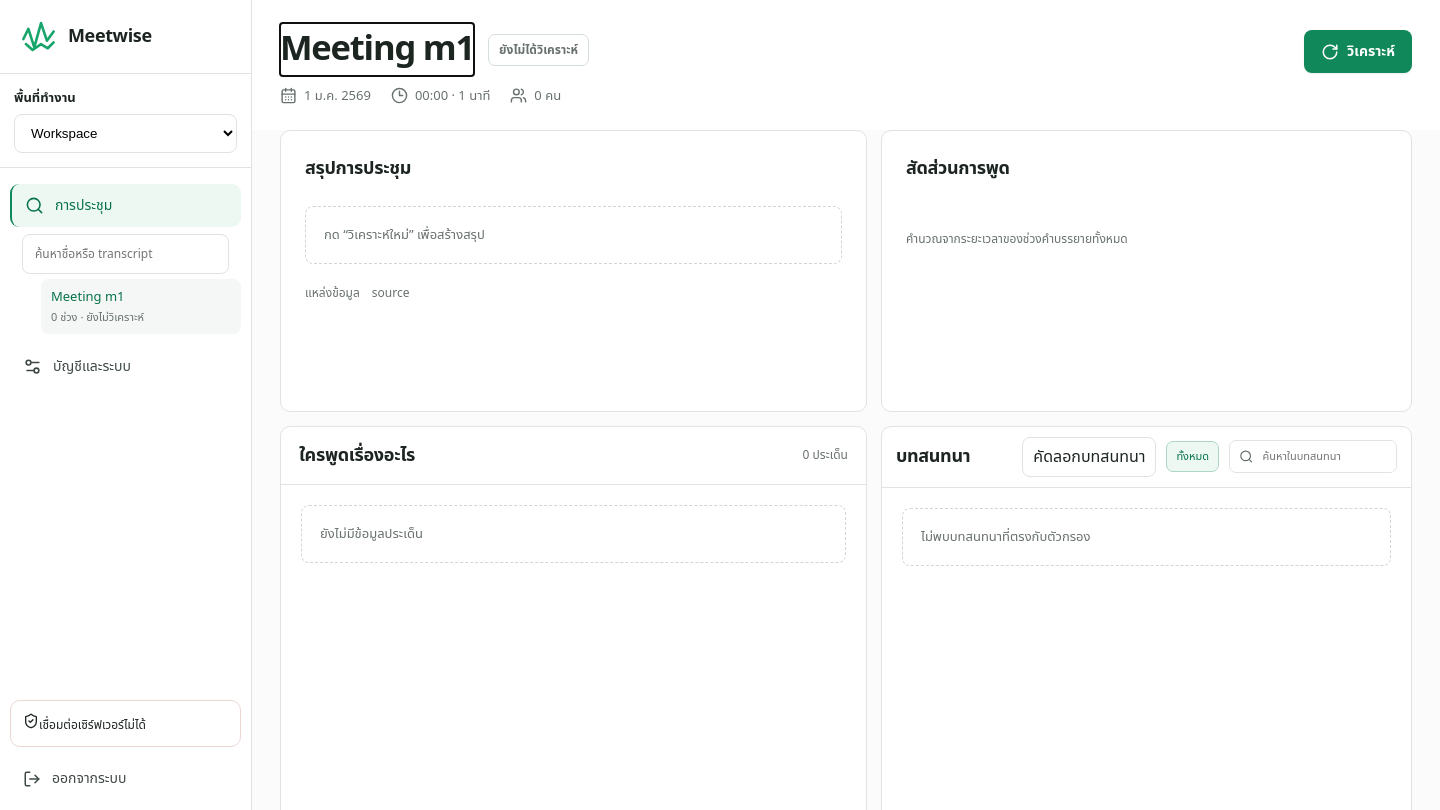
Test: dashboard authentication and role-aware UI › ignores stale search responses and restores meetings after clearing search
Check: the heading "Meeting m1" is shown, box [280,30,474,70]
Type "old" into the field with placeholder "ค้นหาชื่อหรือ transcript" at (126, 254), box [22,234,229,274]
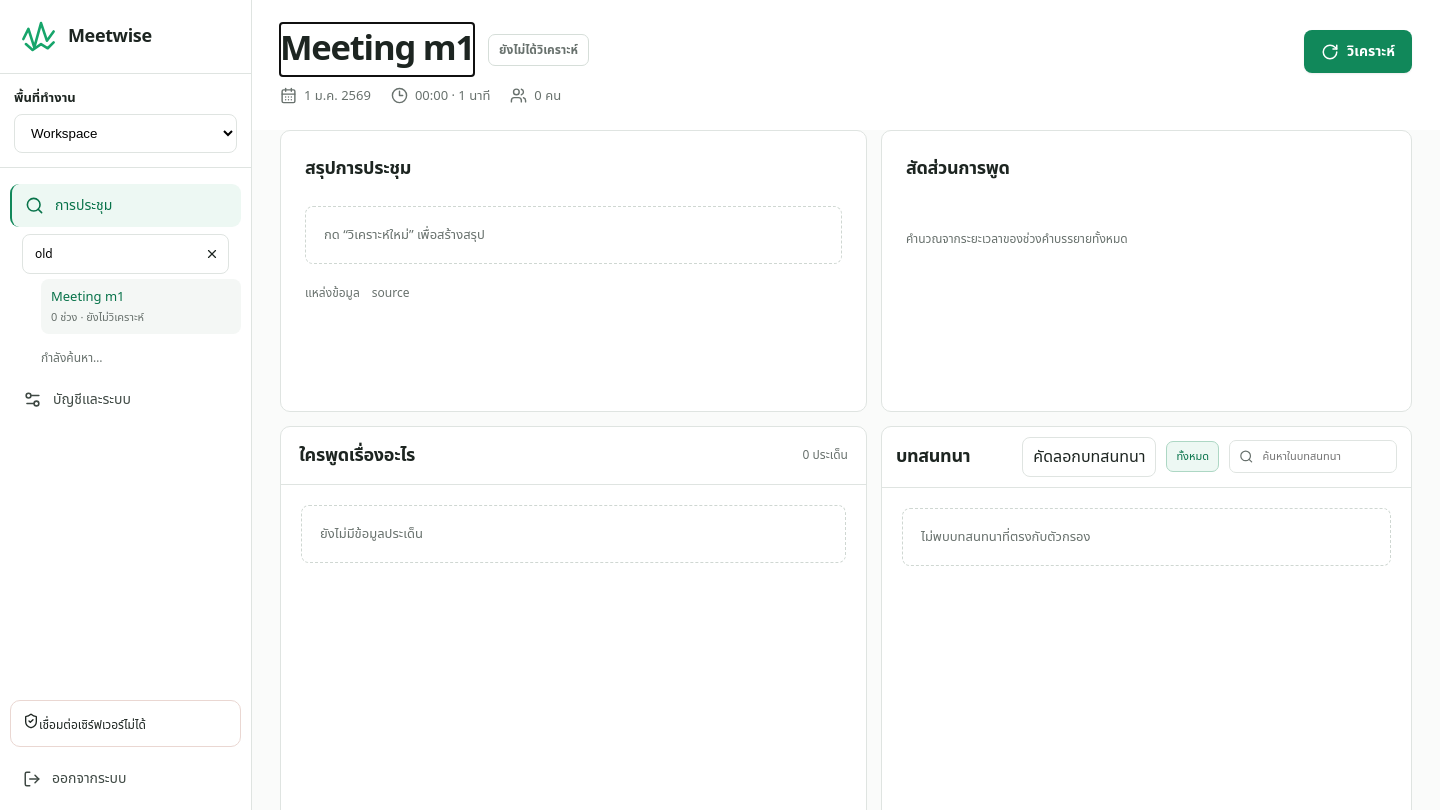
Replace the text in the field with placeholder "ค้นหาชื่อหรือ transcript" with "new" at (126, 254), box [22,234,229,274]
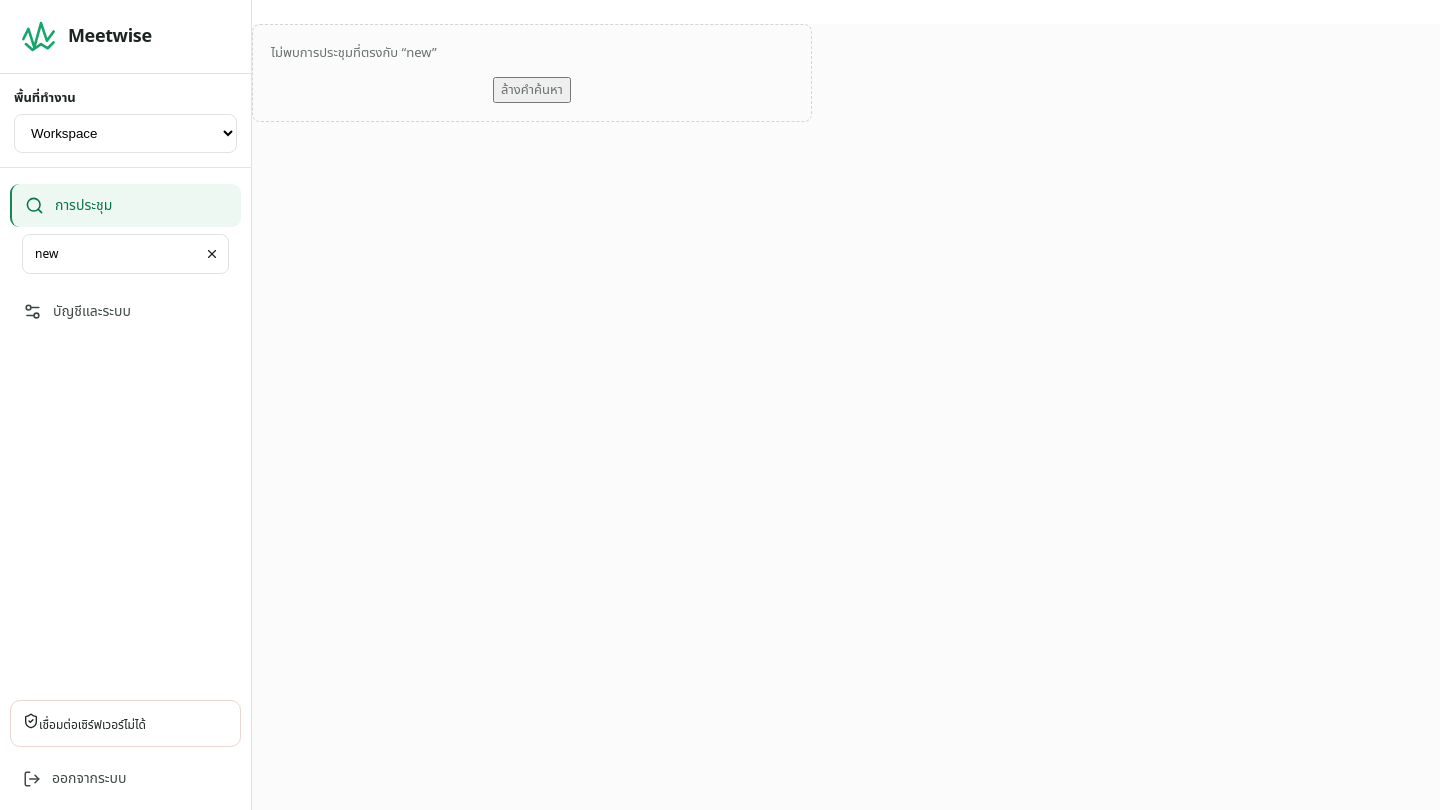
Check: the text "ไม่พบการประชุมที่ตรงกับ “new” ล้างคำค้นหา" is shown, box [252,24,812,122]
Click the button "ล้างคำค้นหา" at (532, 90), box [493,77,571,103]
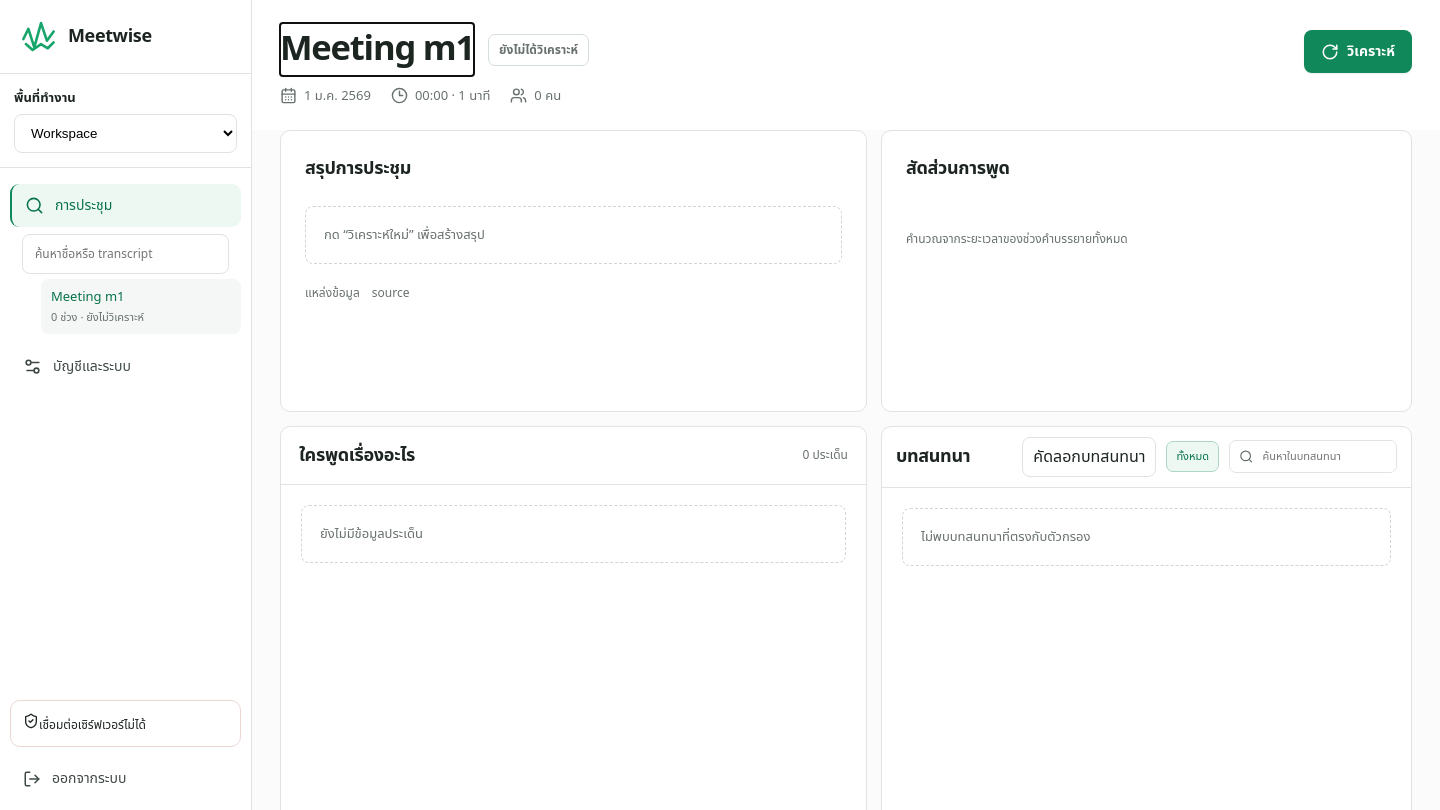
Check: the heading "Meeting m1" is shown, box [280,30,474,70]
